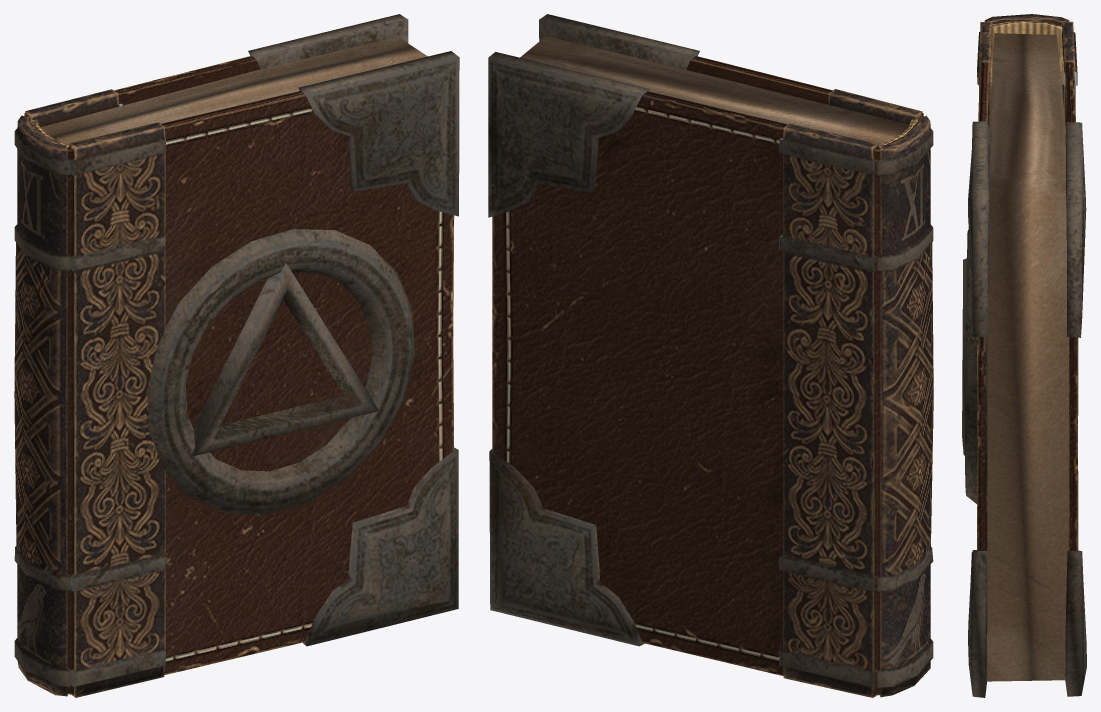
File: SM_Book.fbx
3 views of the same model, side by side, from view 1: azimuth 30°, elevation 25°; view 2: azimuth 150°, elevation 25°; view 3: azimuth 270°, elevation 25° (orthographic). The views are drawn at different scales.
Parts seen in each view (by area): view 1: Book; view 2: Book; view 3: Book.
Part boxes in pixels (x1,y1,x2,y2): Book: [14, 14, 459, 697]; Book: [488, 14, 933, 697]; Book: [962, 14, 1086, 697].
Bounding box in the file's own units: 24.06 × 31.42 × 7.
